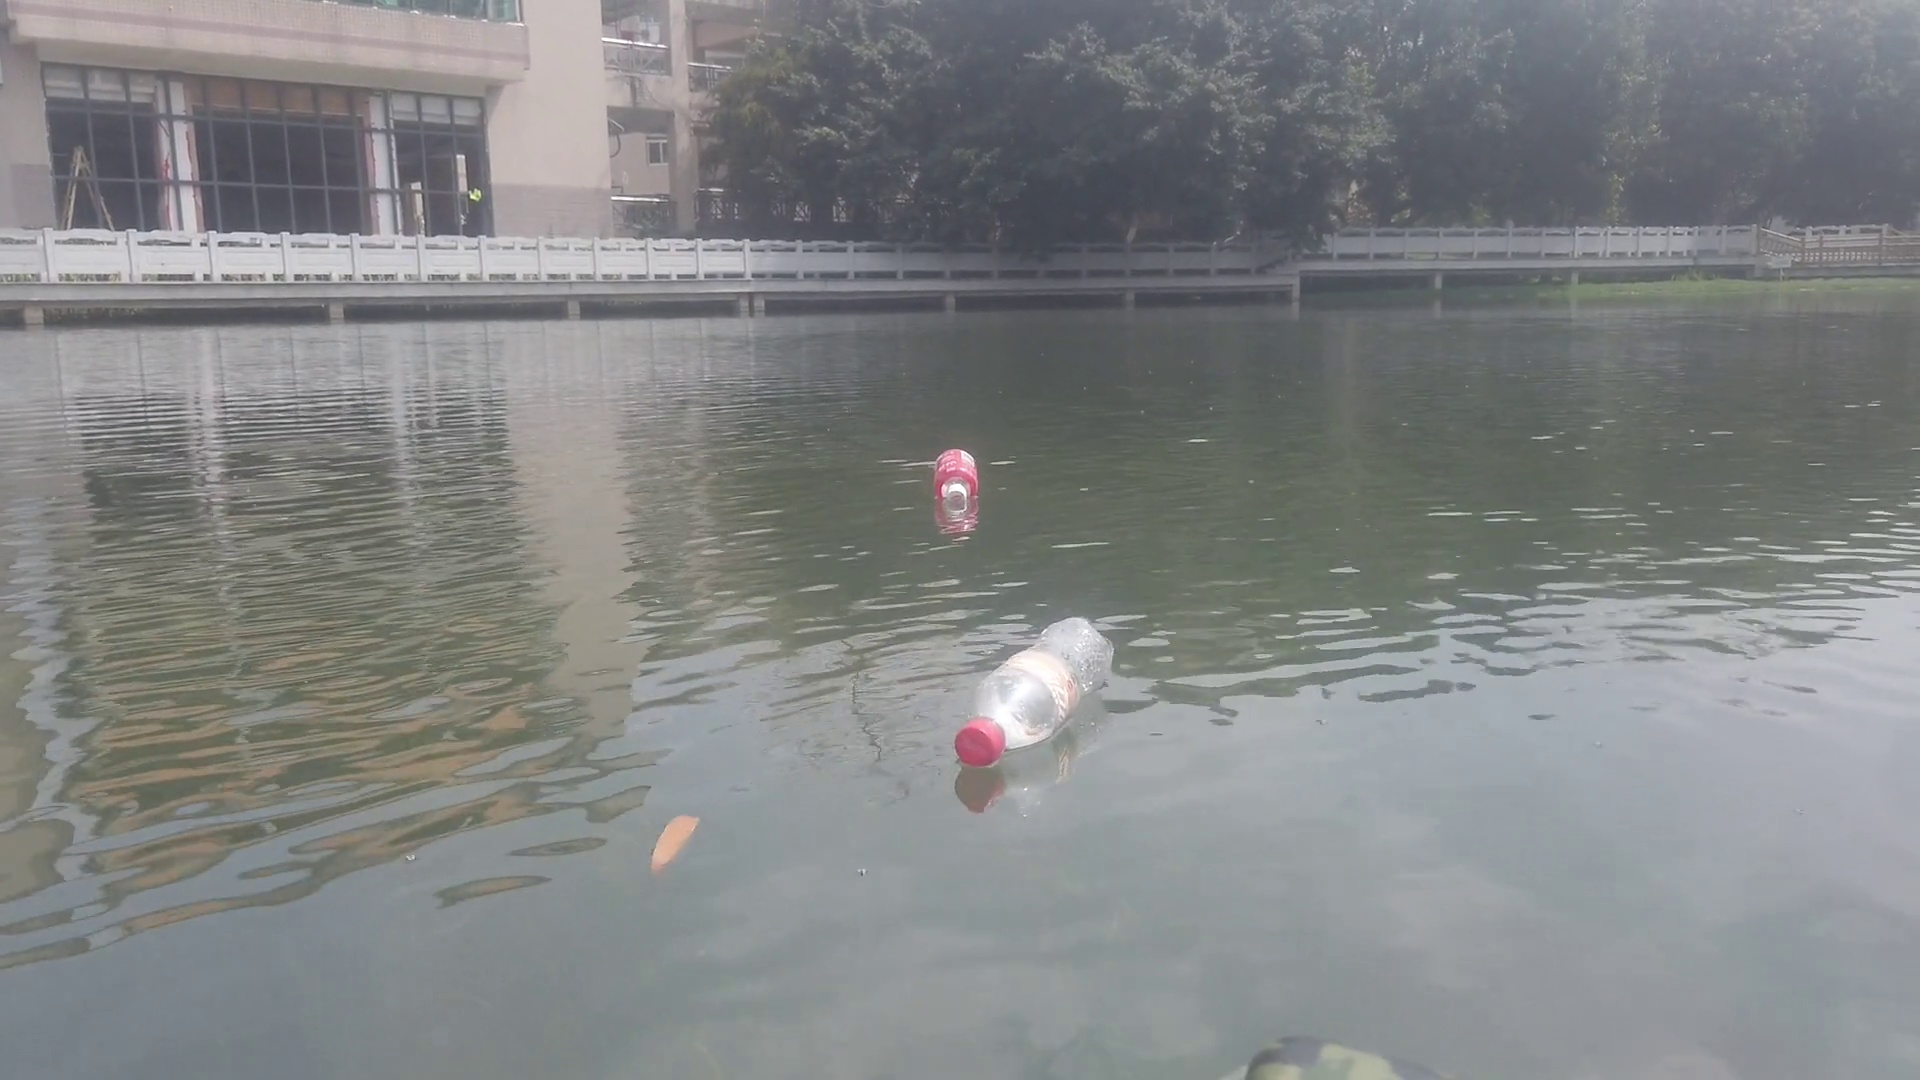bottle: (949, 616, 1113, 765), (934, 448, 978, 510)
